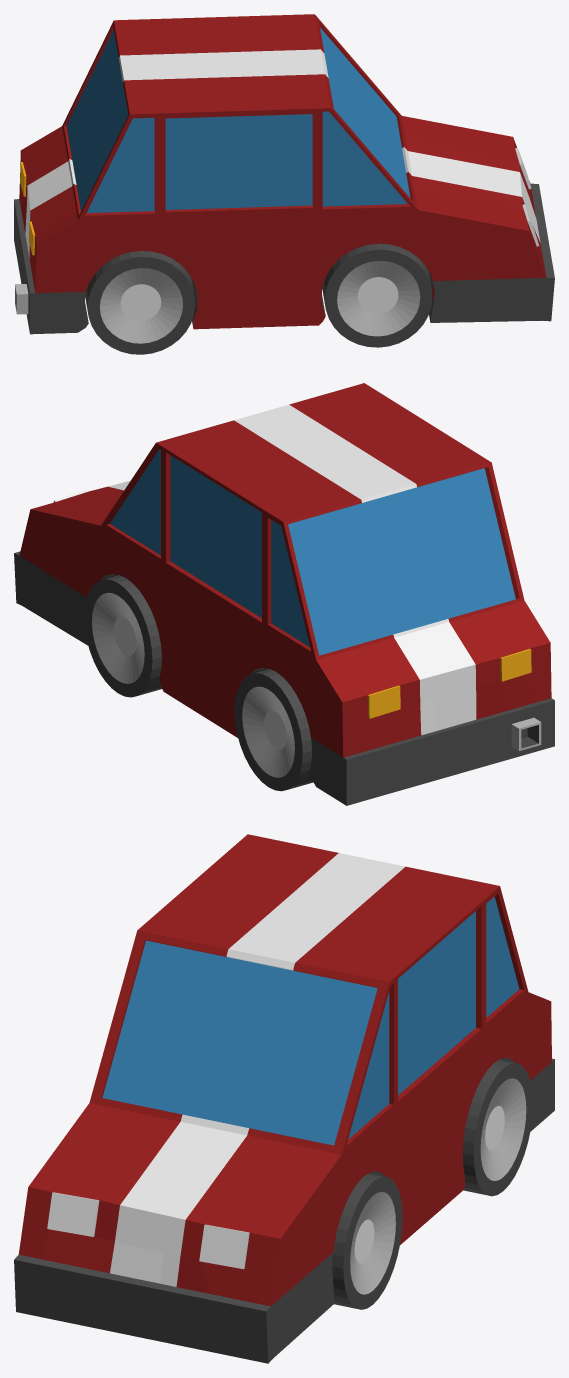
The model's file is player.fbx.
3 views of the same model, one above another, from view 1: azimuth 30°, elevation 25°; view 2: azimuth 150°, elevation 25°; view 3: azimuth 270°, elevation 25° (orthographic). The views are drawn at different scales.
Parts seen in each view (by area): view 1: Cube.009, Cylinder.031, Cylinder.032; view 2: Cube.009, Cylinder.030, Cylinder.033; view 3: Cube.009, Cylinder.030, Cylinder.033.
Part boxes in pixels (x1=…): Cube.009: x1=14, y1=14, x2=554, y2=334; Cylinder.031: x1=85, y1=251, x2=195, y2=354; Cylinder.032: x1=322, y1=243, x2=432, y2=347; Cube.009: x1=14, y1=383, x2=554, y2=805; Cylinder.030: x1=84, y1=575, x2=161, y2=697; Cylinder.033: x1=234, y1=669, x2=313, y2=791; Cube.009: x1=14, y1=834, x2=554, y2=1363; Cylinder.030: x1=332, y1=1173, x2=402, y2=1309; Cylinder.033: x1=462, y1=1060, x2=532, y2=1196.
Size of the model in its own units: 219 by 100 by 165.
